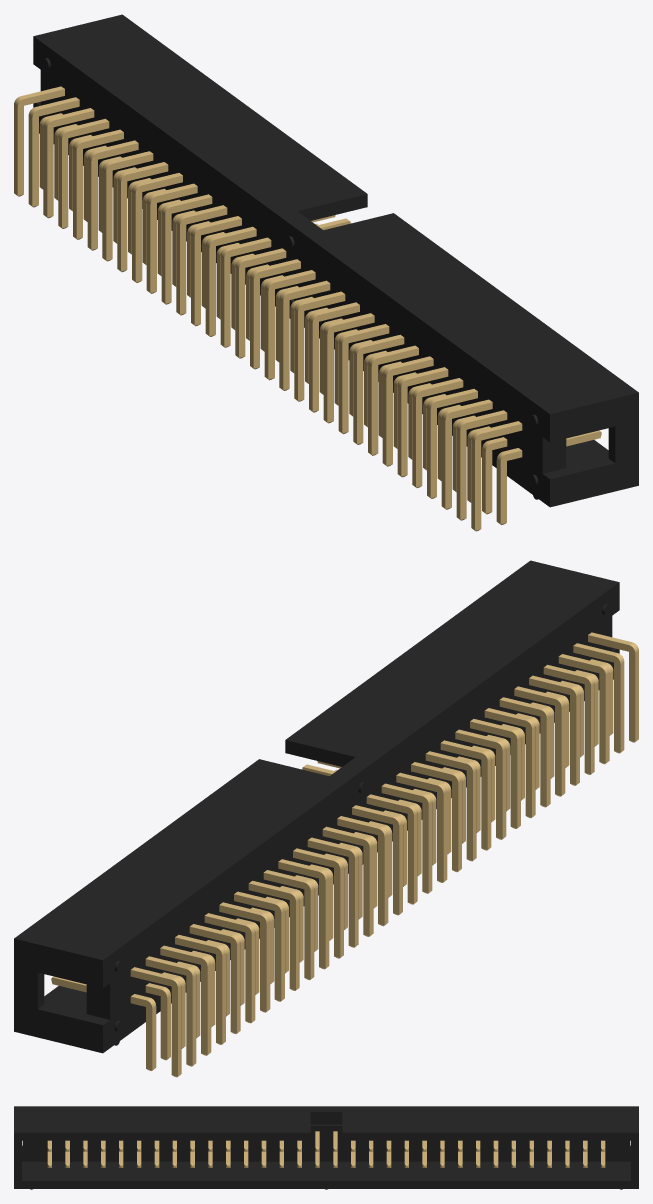
File: kc-idc-header_2x32_p2.54mm_horizontal.glb
3 views of the same model, one above another, from view 1: azimuth 30°, elevation 25°; view 2: azimuth 150°, elevation 25°; view 3: azimuth 270°, elevation 25° (orthographic). The views are drawn at different scales.
Parts seen in each view (by area): view 1: 0_0_0_0, 0.75_0.5_0.25_0.9; view 2: 0_0_0_0, 0.75_0.5_0.25_0.9; view 3: 0_0_0_0, 0.75_0.5_0.25_0.9.
Boxes of the visible parts, bbox=[...] form: 0_0_0_0: bbox=[33, 14, 638, 507]; 0.75_0.5_0.25_0.9: bbox=[14, 86, 601, 531]; 0_0_0_0: bbox=[14, 560, 619, 1053]; 0.75_0.5_0.25_0.9: bbox=[51, 632, 638, 1077]; 0_0_0_0: bbox=[14, 1106, 638, 1189]; 0.75_0.5_0.25_0.9: bbox=[47, 1131, 605, 1167].
Bounding box in the file's own units: 1.35 × 1.21 × 8.89.
